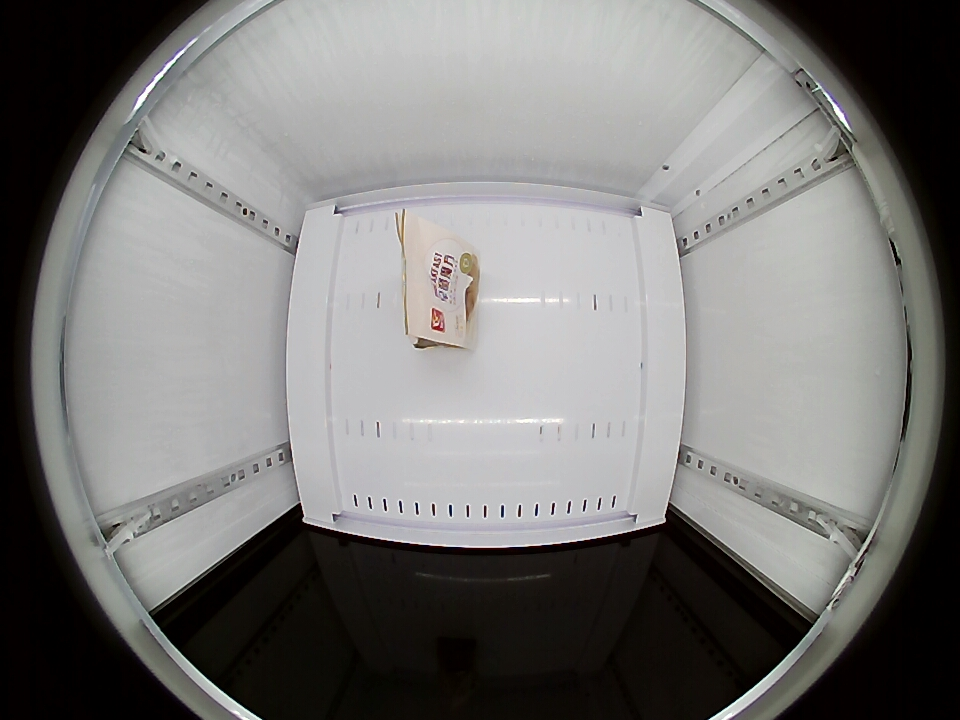zaocanmofang: (397, 212, 478, 349)
